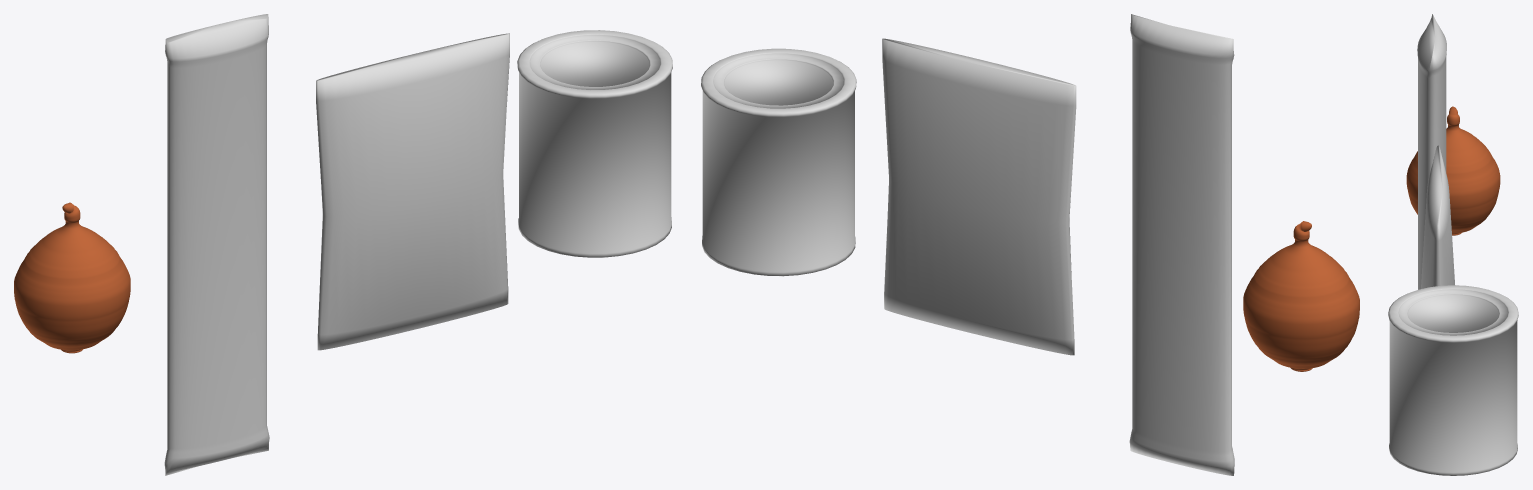
The model's file is spaghetti recipe.fbx.
The picture shows the model from 3 angles, left to right: view 1: azimuth 30°, elevation 25°; view 2: azimuth 150°, elevation 25°; view 3: azimuth 270°, elevation 25°; orthographic projection. The views are drawn at different scales.
Visible parts, largest first — view 1: Cylinder.013, Cylinder.014, Cylinder.015, Cylinder.012; view 2: Cylinder.013, Cylinder.014, Cylinder.015, Cylinder.012; view 3: Cylinder.015, Cylinder.012, Cylinder.014, Cylinder.013.
Boxes of the visible parts, box(x1,y1,x2,y2) form: Cylinder.013: box(316, 33, 509, 350); Cylinder.014: box(164, 14, 269, 475); Cylinder.015: box(517, 30, 672, 257); Cylinder.012: box(14, 202, 130, 353); Cylinder.013: box(882, 38, 1076, 355); Cylinder.014: box(1129, 14, 1234, 475); Cylinder.015: box(701, 48, 856, 276); Cylinder.012: box(1243, 221, 1359, 371); Cylinder.015: box(1388, 285, 1518, 475); Cylinder.012: box(1406, 106, 1500, 235); Cylinder.014: box(1417, 14, 1446, 289); Cylinder.013: box(1421, 145, 1454, 288).
Size of the model in its own units: 1125 by 732 by 237.
